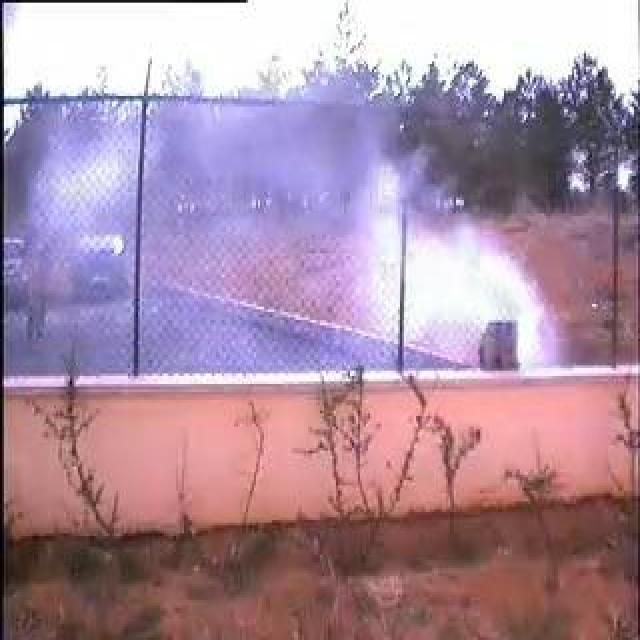Smoke: (77, 128, 551, 371)
